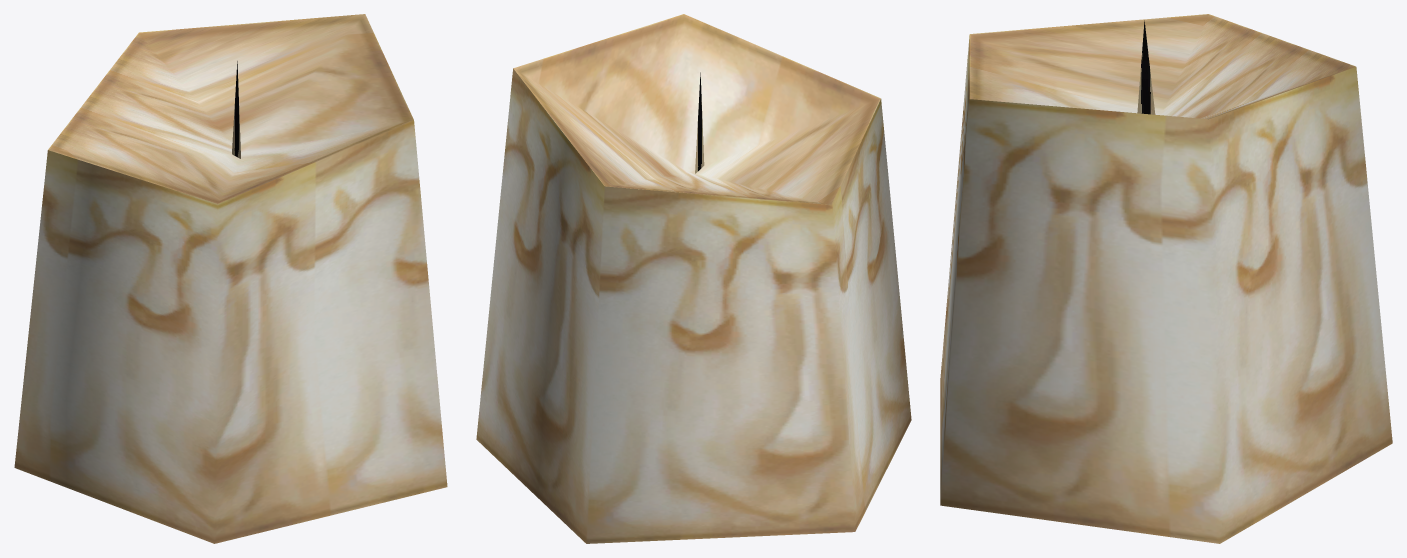
The model's file is candle02.obj.
3 views of the same model, side by side, from view 1: azimuth 30°, elevation 25°; view 2: azimuth 150°, elevation 25°; view 3: azimuth 270°, elevation 25° (orthographic). The views are drawn at different scales.
Visible parts, largest first — view 1: Geoset0, Geoset1; view 2: Geoset0, Geoset1; view 3: Geoset0, Geoset1.
Boxes of the visible parts, <box> form: Geoset0: <box>14,14,447,543</box>; Geoset1: <box>232,61,240,158</box>; Geoset0: <box>476,14,911,543</box>; Geoset1: <box>695,72,704,173</box>; Geoset0: <box>940,14,1392,543</box>; Geoset1: <box>1137,20,1155,114</box>.
Bounding box in the file's own units: 0.4599 × 0.4519 × 0.4374.
Materials: 2 (2 with a texture image).
